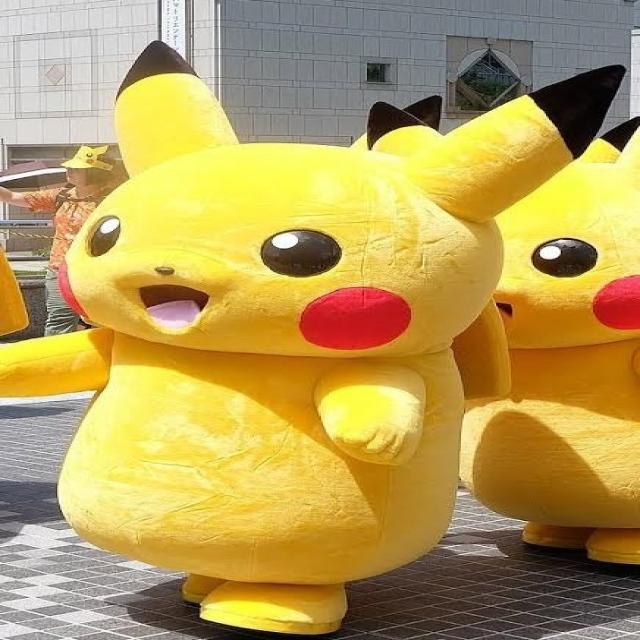pikachu: (2, 40, 634, 638), (372, 103, 636, 569)
